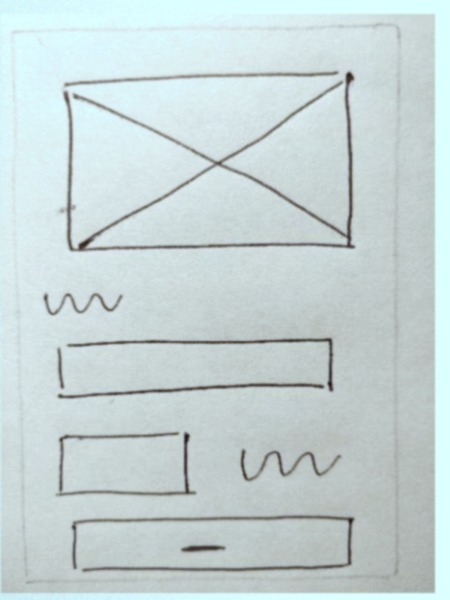button: (62, 510, 364, 575)
image: (55, 66, 364, 257)
text: (227, 435, 349, 492), (35, 280, 126, 324)
text_input: (43, 330, 347, 411), (48, 427, 201, 502)
